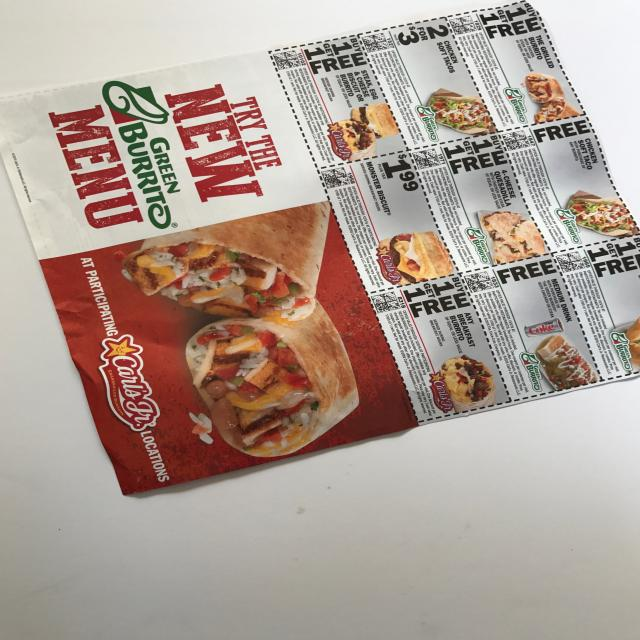paper: (0, 9, 640, 506)
